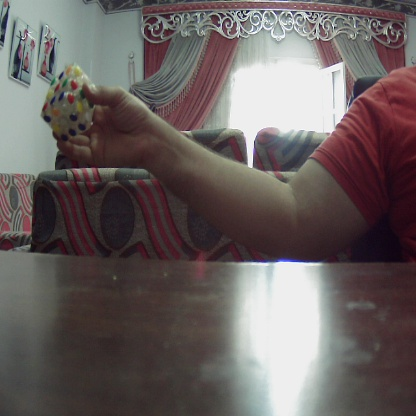Rubix Cube: (43, 73, 98, 139)
